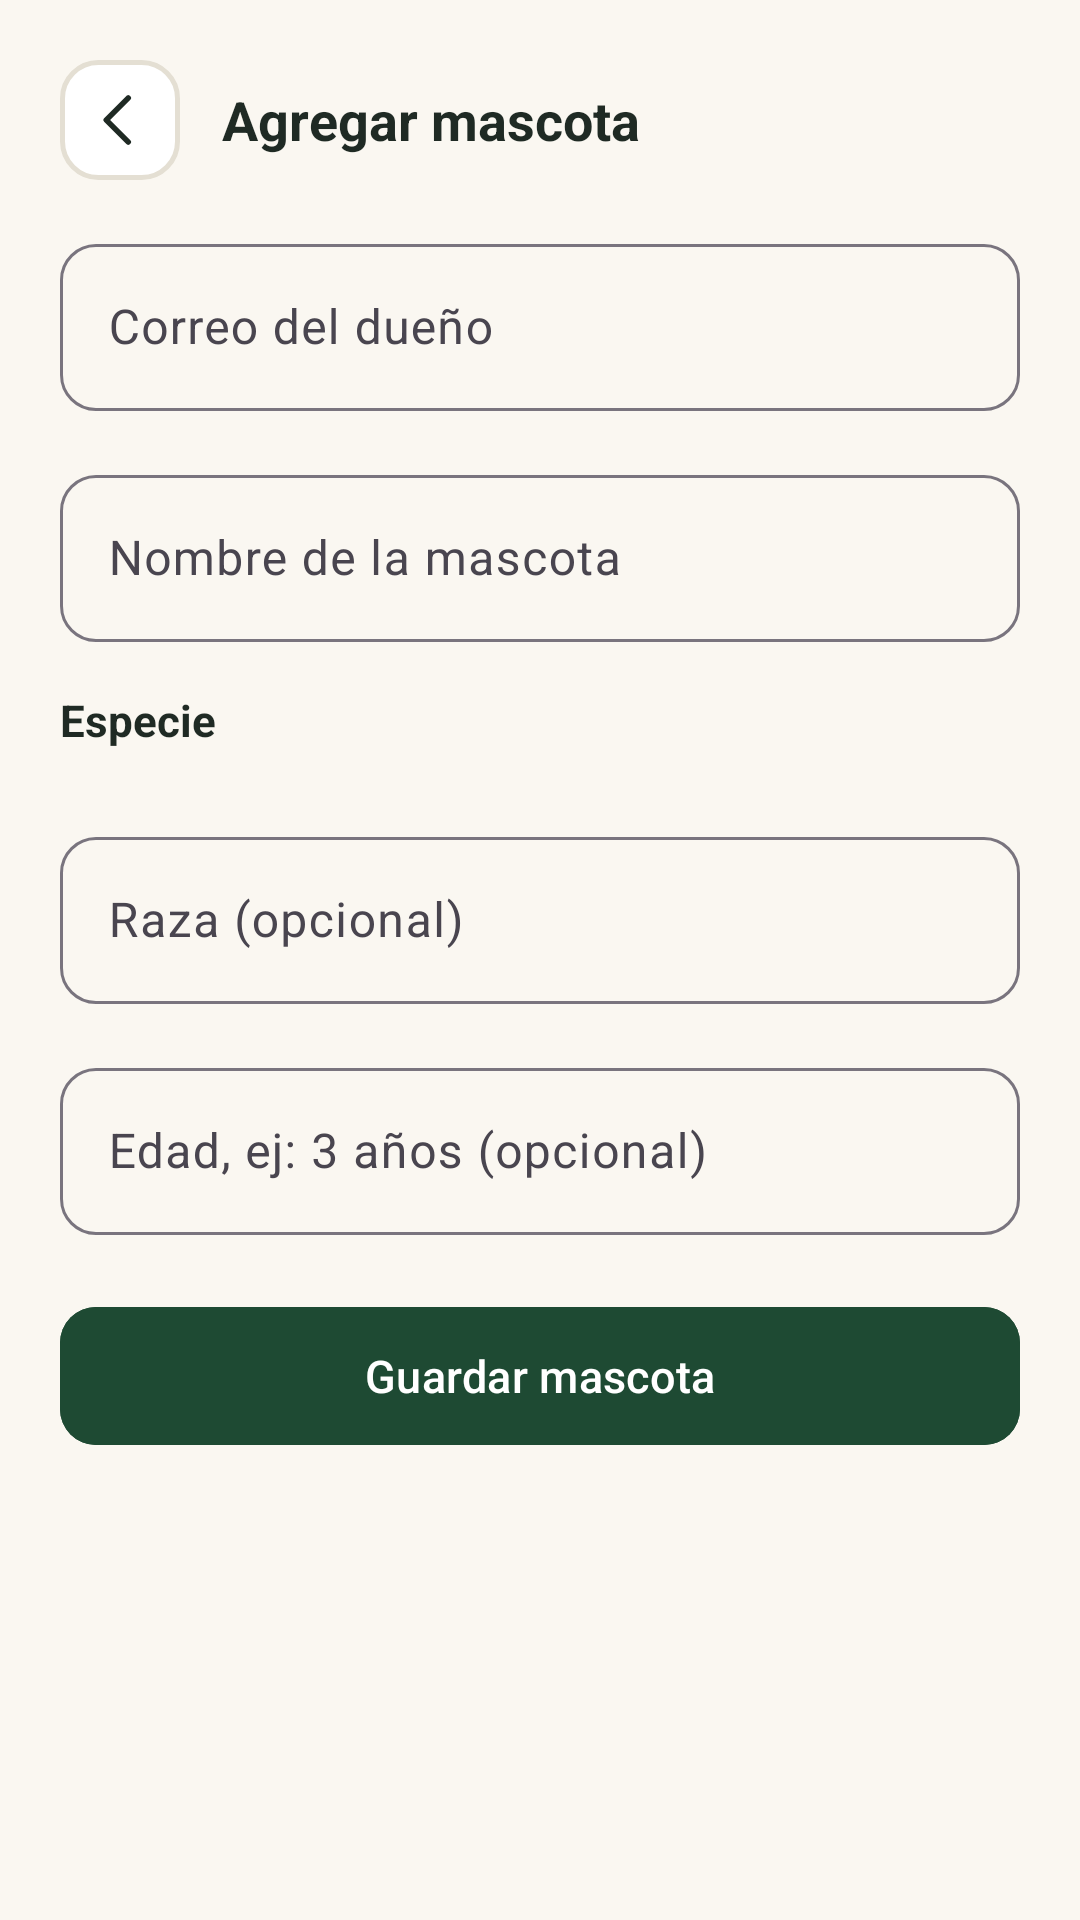

Icon click points for this 1080px x 1920px phone screenshot, format [x,y]:
← Atrás: [120,120]
